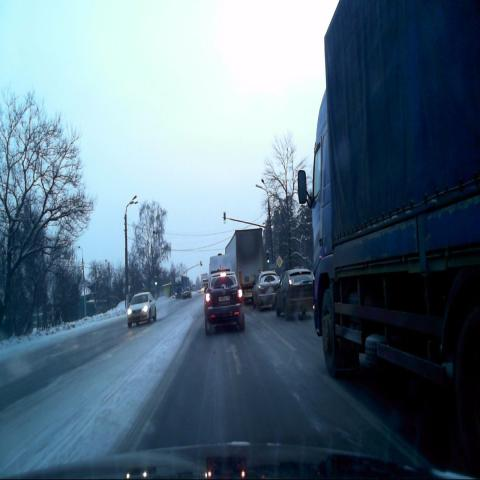2_1: (276, 255, 283, 268)
